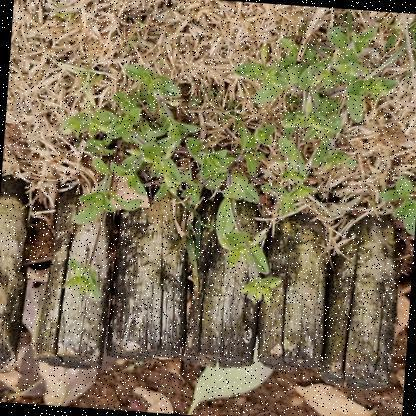Weeds: (53, 0, 400, 321), (370, 168, 415, 238)
